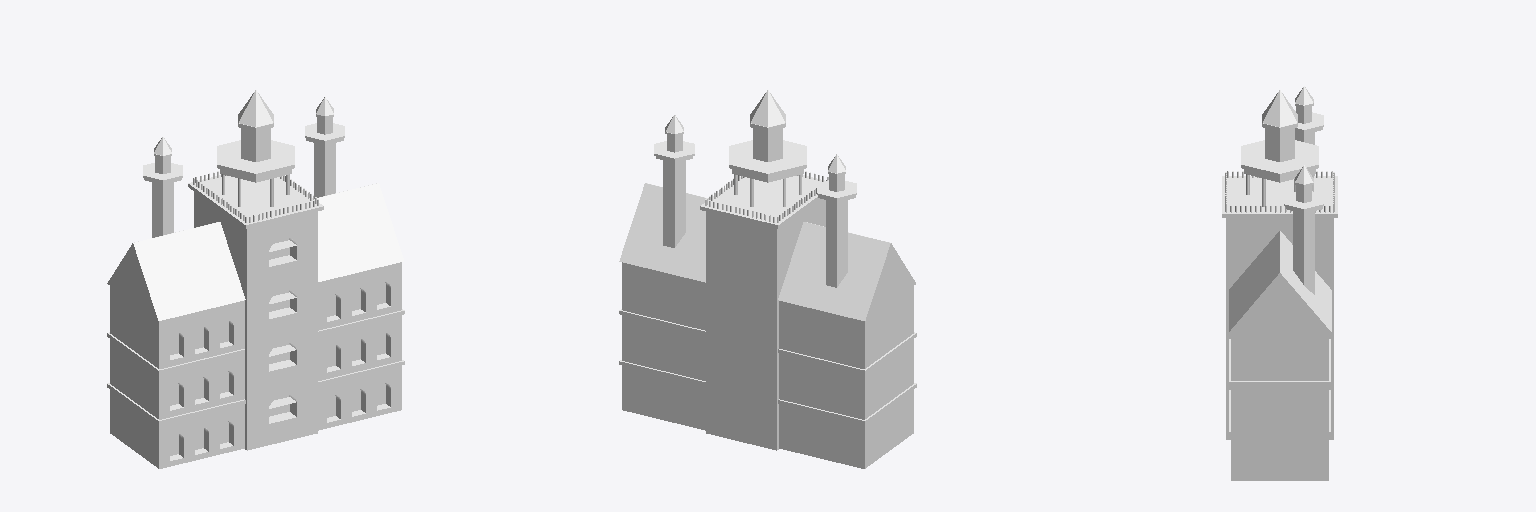
File: 蓝色城堡.obj
The picture shows the model from 3 angles: view 1: azimuth 30°, elevation 25°; view 2: azimuth 150°, elevation 25°; view 3: azimuth 270°, elevation 25°; orthographic projection.
Visible parts, largest first — view 1: 立方体, 立方体.2, 立方体.1, 立方体.3, 封顶_2_15, 挤压_1, 挤压, 立方体.4, 立方体.5, 挤压.2, 挤压.4, 挤压.1_1 (+3 smaller); view 2: 立方体, 立方体.2, 立方体.1, 立方体.3, 挤压, 挤压_1, 封顶_2_15, 立方体.5, 立方体.4, 挤压.2, 挤压.4; view 3: 立方体, 立方体.1, 立方体.2, 立方体.3, 挤压, 封顶_2_15, 挤压.2, 挤压.4, 立方体.5, 立方体.4.
Part boxes in pixels (x1,y1,x2,y2): 立方体: (110,262,401,468); 立方体.2: (194,192,317,450); 立方体.1: (107,183,403,320); 立方体.3: (188,175,323,228); 封顶_2_15: (217,140,294,173); 挤压_1: (152,182,173,237); 挤压: (314,143,335,198); 立方体.4: (107,360,404,424); 立方体.5: (107,309,404,373); 挤压.2: (241,128,270,161); 挤压.4: (238,90,273,126); 挤压.1_1: (269,342,296,371); 立方体: (622,262,913,468); 立方体.2: (706,199,825,450); 立方体.1: (619,183,915,320); 立方体.3: (700,175,824,228); 挤压: (663,160,685,247); 挤压_1: (826,200,847,287); 封顶_2_15: (729,140,806,173); 立方体.5: (619,309,916,373); 立方体.4: (619,360,916,424); 挤压.2: (753,128,782,161); 挤压.4: (750,90,785,126); 立方体: (1231,333,1328,480); 立方体.1: (1229,231,1331,332); 立方体.2: (1226,218,1333,439); 立方体.3: (1222,176,1337,217); 挤压: (1293,211,1314,294); 封顶_2_15: (1241,140,1318,173); 挤压.2: (1265,128,1294,161); 挤压.4: (1262,90,1297,126); 立方体.5: (1229,339,1330,385); 立方体.4: (1229,390,1330,435).
Bounding box in the file's own units: 1632 × 2108 × 662.